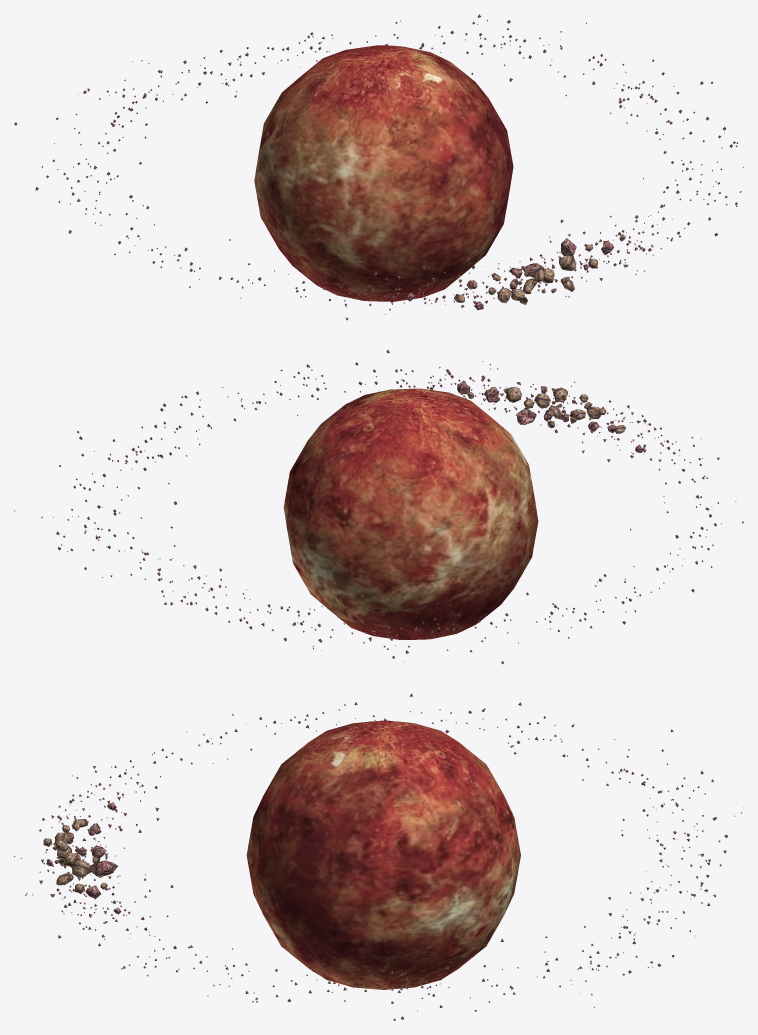
Rendered from ENVO_AsteroidField.obj.
3 views of the same model, one above another, from view 1: azimuth 30°, elevation 25°; view 2: azimuth 150°, elevation 25°; view 3: azimuth 270°, elevation 25° (orthographic). The views are drawn at different scales.
Visible parts, largest first — view 1: AsteroidFieldPlanet, AsteroidFieldSmallAsteroidFeild, AsteroidFieldasteroids01, AsteroidFieldasteroids02; view 2: AsteroidFieldPlanet, AsteroidFieldSmallAsteroidFeild, AsteroidFieldasteroids01, AsteroidFieldasteroids02; view 3: AsteroidFieldPlanet, AsteroidFieldSmallAsteroidFeild, AsteroidFieldasteroids01, AsteroidFieldasteroids02.
Part boxes in pixels (x1=…): AsteroidFieldPlanet: x1=254, y1=45, x2=513, y2=301; AsteroidFieldSmallAsteroidFeild: x1=14, y1=14, x2=743, y2=320; AsteroidFieldasteroids01: x1=454, y1=244, x2=597, y2=302; AsteroidFieldasteroids02: x1=407, y1=234, x2=625, y2=310; AsteroidFieldPlanet: x1=283, y1=388, x2=538, y2=639; AsteroidFieldSmallAsteroidFeild: x1=14, y1=349, x2=743, y2=663; AsteroidFieldasteroids01: x1=467, y1=387, x2=625, y2=433; AsteroidFieldasteroids02: x1=457, y1=380, x2=643, y2=452; AsteroidFieldPlanet: x1=246, y1=720, x2=520, y2=989; AsteroidFieldSmallAsteroidFeild: x1=14, y1=693, x2=743, y2=1020; AsteroidFieldasteroids01: x1=43, y1=819, x2=107, y2=893; AsteroidFieldasteroids02: x1=46, y1=802, x2=121, y2=914.
Size of what is drawn, in the model's own units: 21598 by 7627 by 20442.
11 materials, 10 textured.
